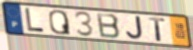3: (74, 11, 95, 38)
B: (95, 11, 122, 40)
J: (125, 16, 144, 41)
L: (24, 7, 46, 34)
Q: (48, 9, 73, 36)
T: (148, 16, 167, 43)
